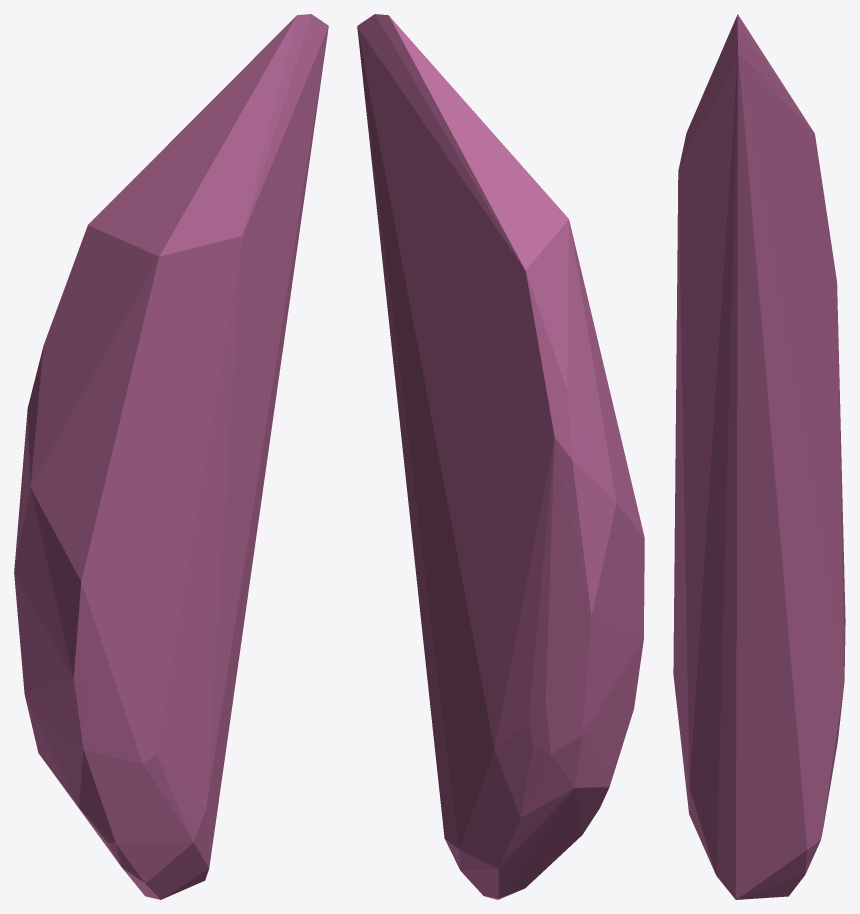
File: food_produce_banana_c01.glb
3 renders of one model, left to right at view 1: azimuth 30°, elevation 25°; view 2: azimuth 150°, elevation 25°; view 3: azimuth 270°, elevation 25°, orthographic. The views are drawn at different scales.
Visible parts, largest first — view 1: geometry_0; view 2: geometry_0; view 3: geometry_0.
Boxes of the visible parts, bbox=[...] form: geometry_0: bbox=[14, 14, 328, 899]; geometry_0: bbox=[357, 14, 644, 899]; geometry_0: bbox=[673, 14, 845, 899].
Bounding box in the file's own units: 0.162 × 0.471 × 0.0772.
